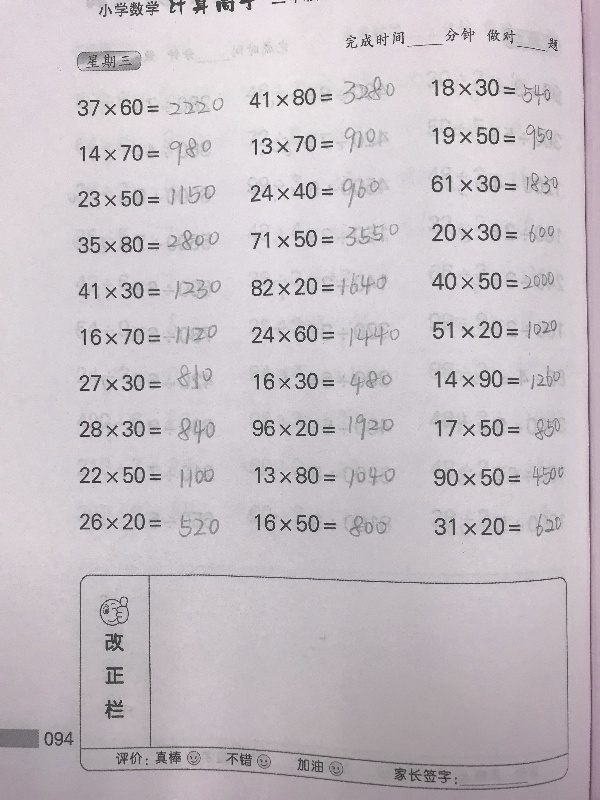equation: (76, 362, 221, 398), (246, 175, 384, 212), (249, 410, 398, 444), (76, 413, 218, 448), (245, 79, 398, 111), (76, 508, 223, 541), (77, 137, 216, 171), (251, 367, 396, 399), (248, 223, 403, 252), (429, 308, 561, 342), (246, 463, 399, 492), (75, 273, 218, 304), (249, 509, 394, 539), (248, 124, 379, 157), (76, 461, 215, 492), (74, 227, 222, 256), (247, 269, 390, 299), (429, 121, 557, 154), (429, 511, 568, 541), (430, 364, 564, 395), (248, 319, 396, 347), (431, 414, 565, 444), (73, 94, 227, 120), (76, 322, 221, 349), (428, 74, 555, 104), (427, 267, 567, 294), (74, 183, 219, 209), (427, 168, 561, 196), (430, 463, 568, 490), (428, 219, 558, 245)
